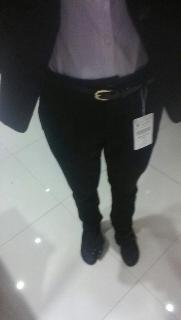trousers: (38, 63, 163, 230)
